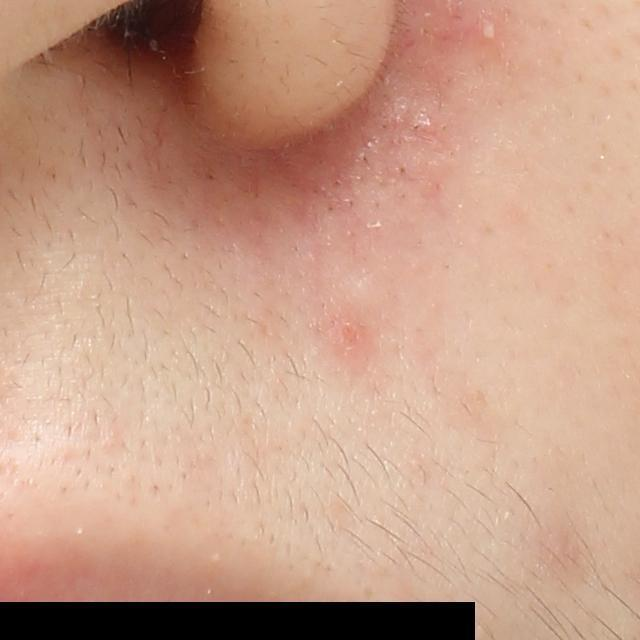papule: (335, 317, 366, 352)
pustule: (472, 17, 508, 43)
